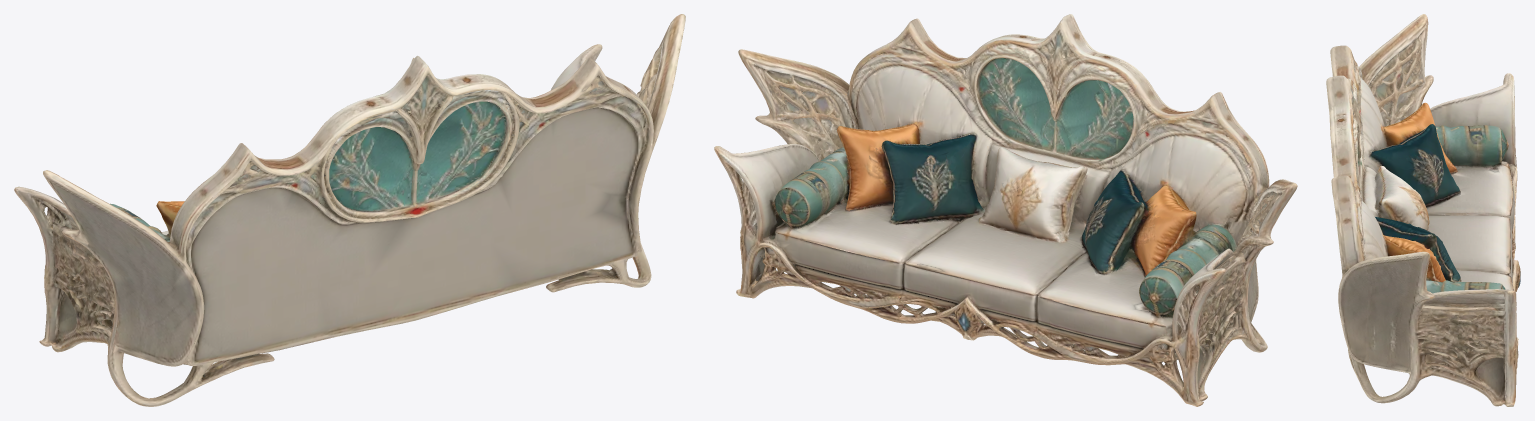
Rendered from sofa_c.glb.
3 views of the same model, side by side, from view 1: azimuth 30°, elevation 25°; view 2: azimuth 150°, elevation 25°; view 3: azimuth 270°, elevation 25° (orthographic). The views are drawn at different scales.
Parts seen in each view (by area): view 1: mesh_node; view 2: mesh_node; view 3: mesh_node.
Part boxes in pixels (x1,y1,x2,y2): mesh_node: (14, 14, 685, 406); mesh_node: (714, 14, 1297, 406); mesh_node: (1326, 14, 1520, 406).
Size of the model in its own units: 1.9 by 0.8616 by 0.6502.
1 material, 1 textured.
